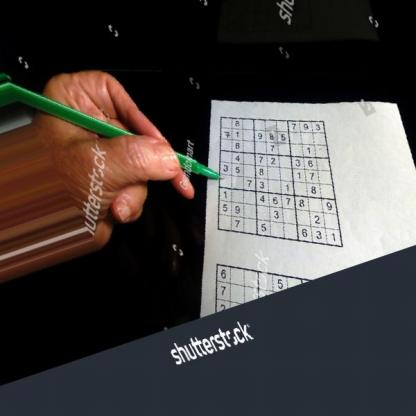sudoku: (214, 112, 347, 251)
